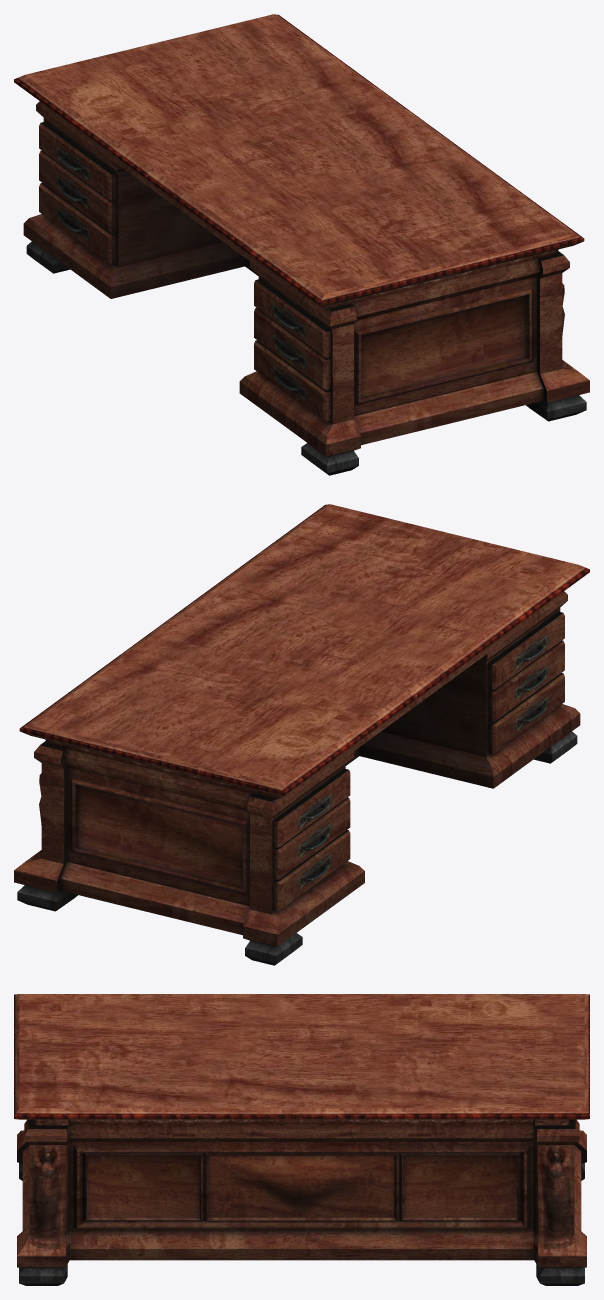
Rendered from desk.glb.
3 views of the same model, one above another, from view 1: azimuth 30°, elevation 25°; view 2: azimuth 150°, elevation 25°; view 3: azimuth 270°, elevation 25° (orthographic). The views are drawn at different scales.
Visible parts, largest first — view 1: breendesk_reference.smd; view 2: breendesk_reference.smd; view 3: breendesk_reference.smd.
Part boxes in pixels (box(x1,y1,x2,y2)): breendesk_reference.smd: box(14, 14, 589, 475); breendesk_reference.smd: box(14, 504, 589, 965); breendesk_reference.smd: box(14, 994, 589, 1285).
Bounding box in the file's own units: 0.9068 × 0.5902 × 1.77.
1 material, 1 textured.
